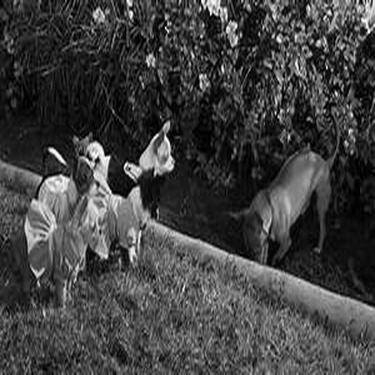dog: (227, 94, 349, 269), (27, 121, 99, 301), (123, 111, 178, 271), (80, 142, 120, 302)
